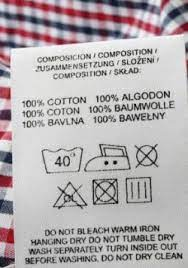ER_no_dry_clean: (132, 142, 162, 173)
ER_no_tumble_dry: (91, 176, 120, 207)
ER_wash_40: (39, 144, 85, 175)
